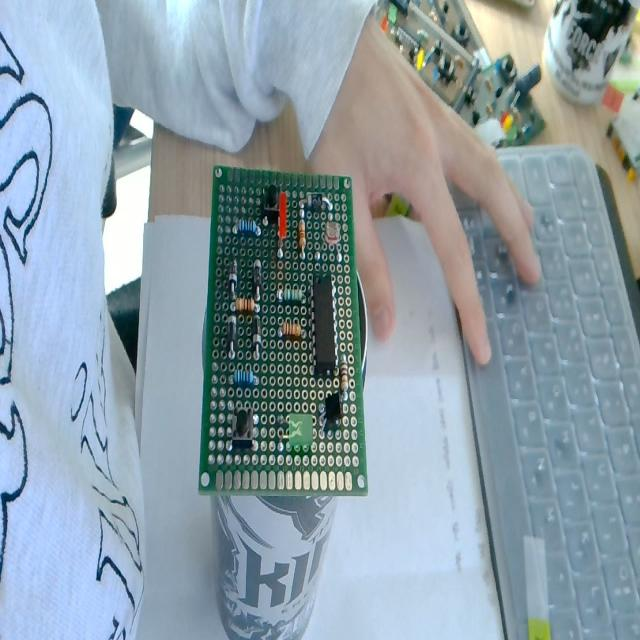IC: (311, 260, 339, 380)
cds: (319, 217, 349, 264)
diode: (297, 188, 337, 214), (224, 251, 242, 297), (250, 311, 264, 361), (251, 255, 265, 302), (226, 309, 238, 359)
led: (277, 403, 315, 462), (274, 196, 290, 258)
resistor: (225, 363, 264, 393), (277, 278, 309, 310), (339, 345, 353, 413), (227, 294, 265, 318), (230, 218, 262, 242), (278, 317, 304, 346), (296, 216, 310, 266)
switch: (227, 400, 258, 459), (256, 180, 280, 224)
transistor: (321, 385, 339, 444)
